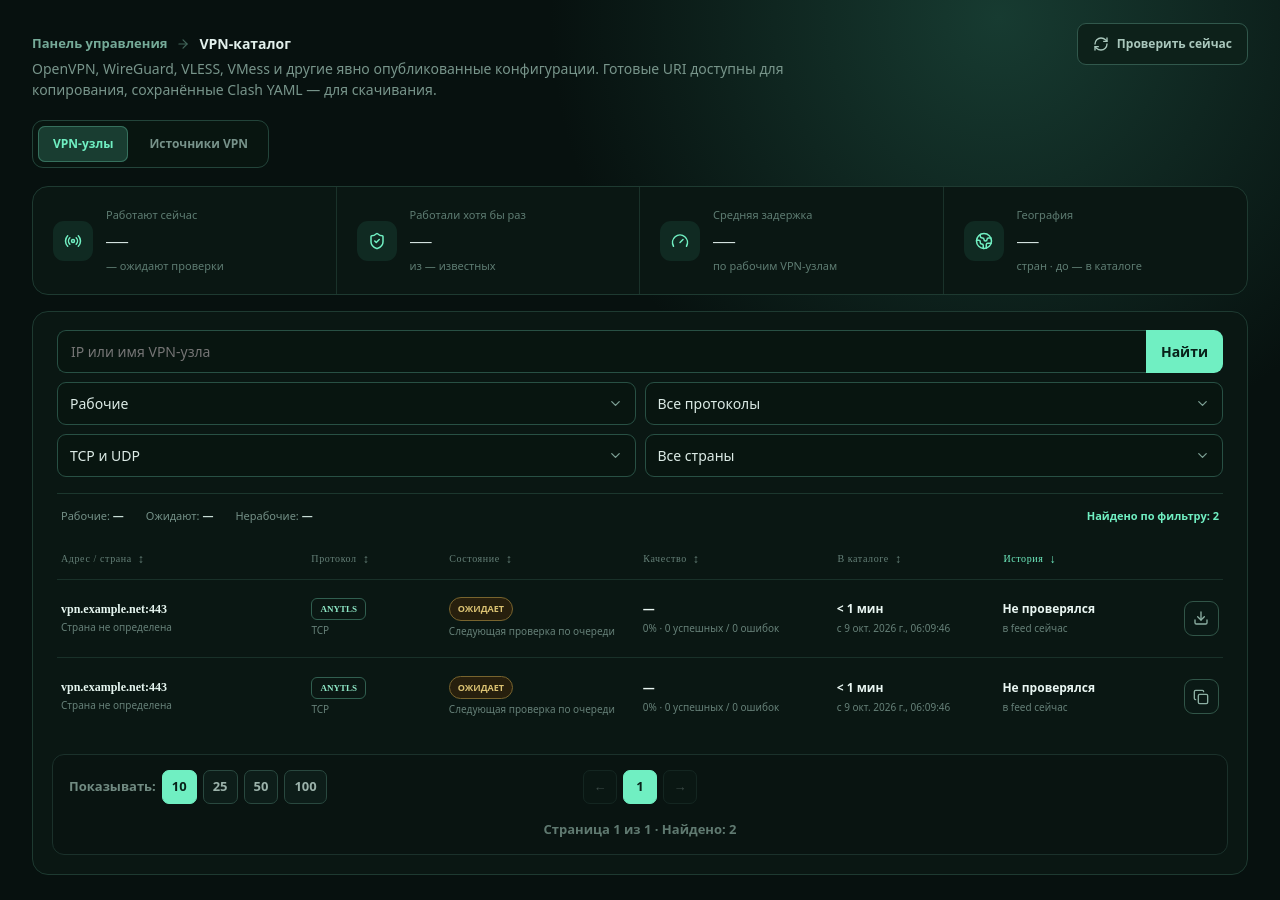
Admin VPN configuration controls › offers YAML only for saved configurations and reports a download failure in the shared toast
Expected: the button named "Копировать конфигурацию VPN" is shown, x1=1184 y1=679 x2=1219 y2=714
Click the button named "Скачать Clash YAML": click(1202, 618) x1=1184 y1=600 x2=1219 y2=636
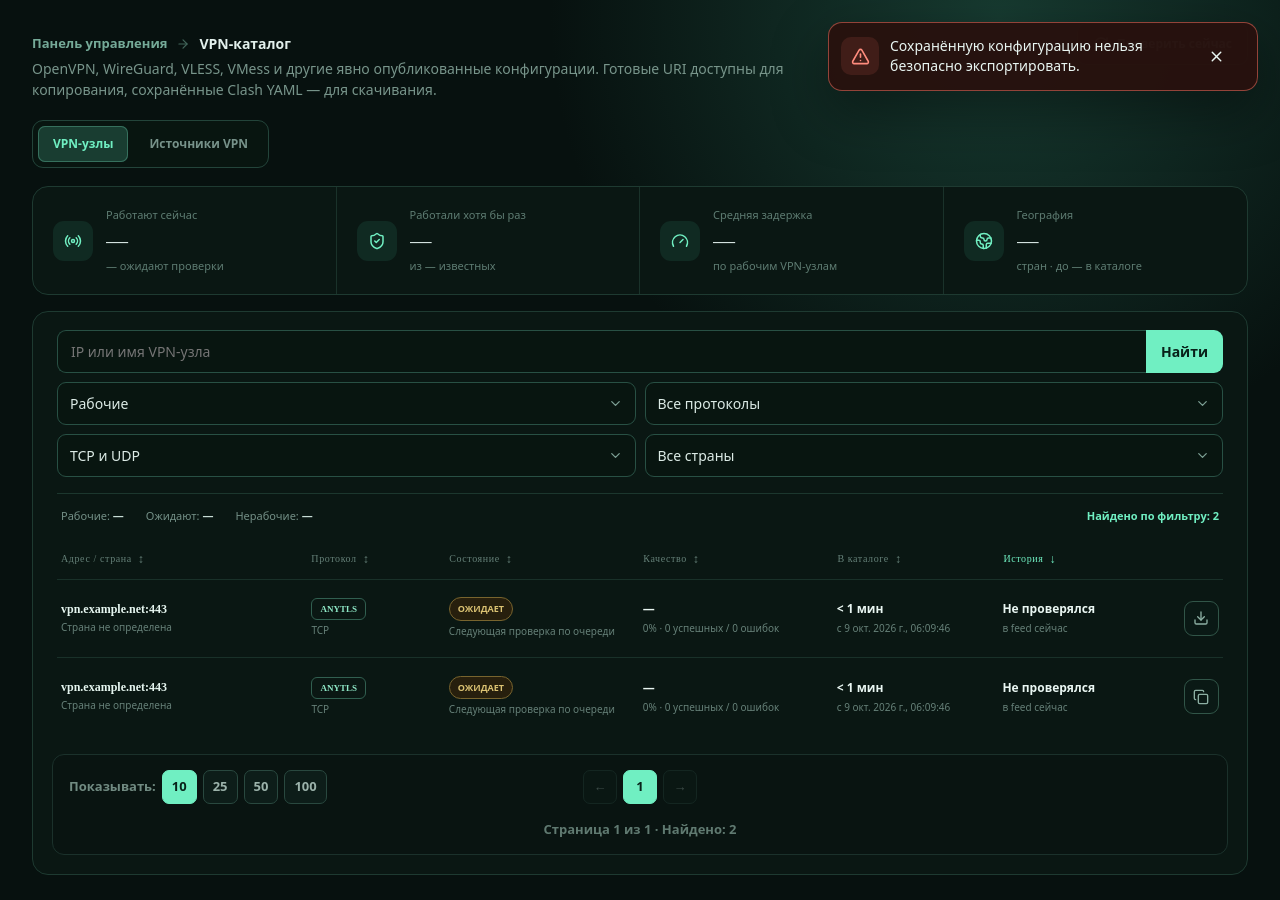
Result: the message reads "Сохранённую конфигурацию нельзя безопасно экспортировать." at x1=890 y1=36 x2=1143 y2=75
